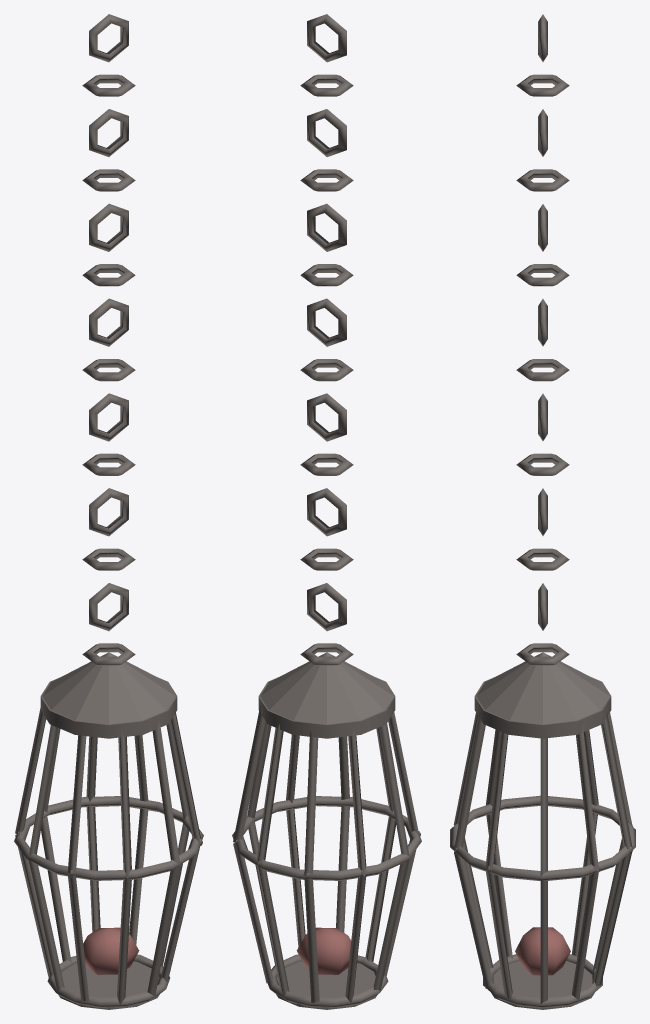
File: descent_cage.glb
3 views of the same model, side by side, from view 1: azimuth 30°, elevation 25°; view 2: azimuth 150°, elevation 25°; view 3: azimuth 270°, elevation 25° (orthographic).
Visible parts, largest first — view 1: cage, fangroot; view 2: cage, fangroot; view 3: cage, fangroot.
Part boxes in pixels (x1,y1,x2,y2): cage: (14,14,203,1009); fangroot: (83,927,139,974); cage: (232,14,421,1009); fangroot: (296,927,351,974); cage: (450,14,635,1009); fangroot: (515,927,570,975).
Size of the model in its own units: 1.53 by 8.61 by 1.49.
